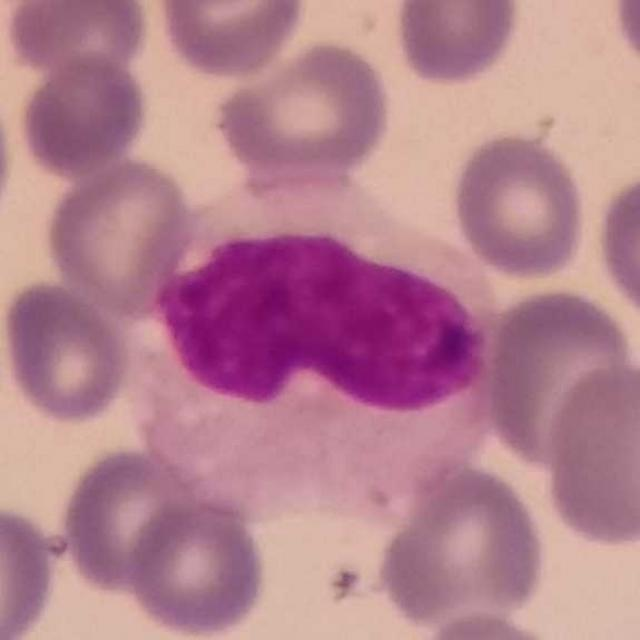Monocyte: (127, 173, 506, 526)
RBC: (373, 459, 552, 633), (477, 283, 639, 474), (209, 36, 396, 188), (40, 154, 199, 316), (54, 441, 210, 600), (447, 128, 591, 283), (120, 493, 271, 640), (0, 275, 135, 427), (540, 356, 640, 552), (14, 50, 152, 179), (150, 0, 312, 82), (2, 0, 154, 82), (390, 0, 524, 89), (0, 500, 62, 640), (591, 164, 640, 330), (398, 607, 573, 640), (0, 77, 18, 247), (609, 0, 640, 79)
